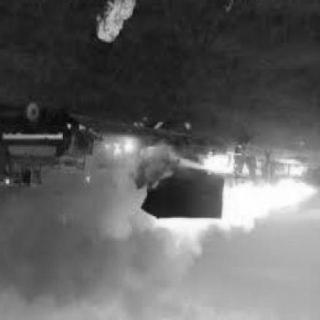Fire: (80, 130, 320, 239)
other: (2, 127, 70, 147), (4, 170, 20, 194)
